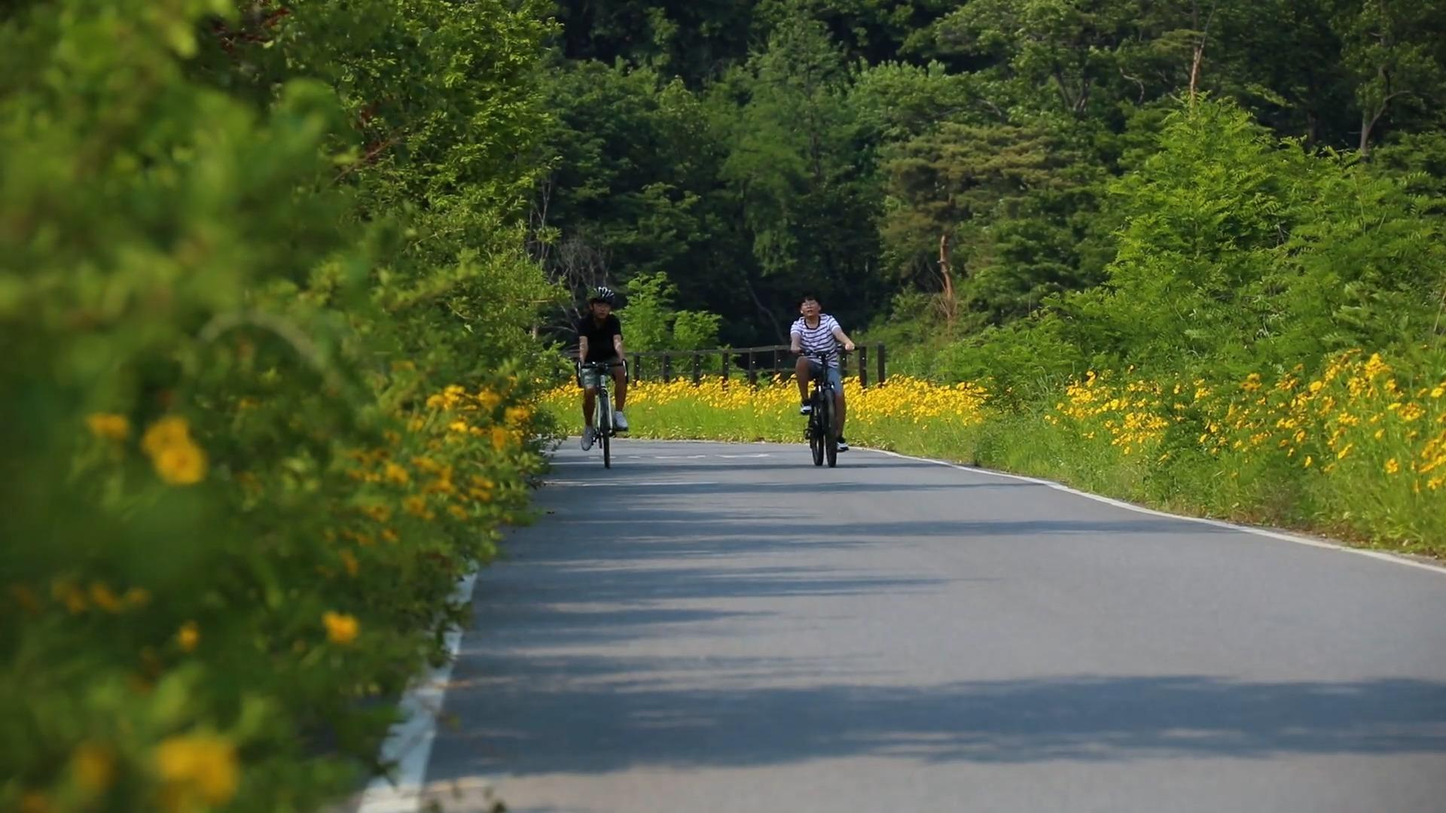bicyclist: (789, 290, 860, 468), (574, 285, 629, 469)
helmet: (585, 285, 616, 320)
no-helmet: (798, 291, 822, 319)
